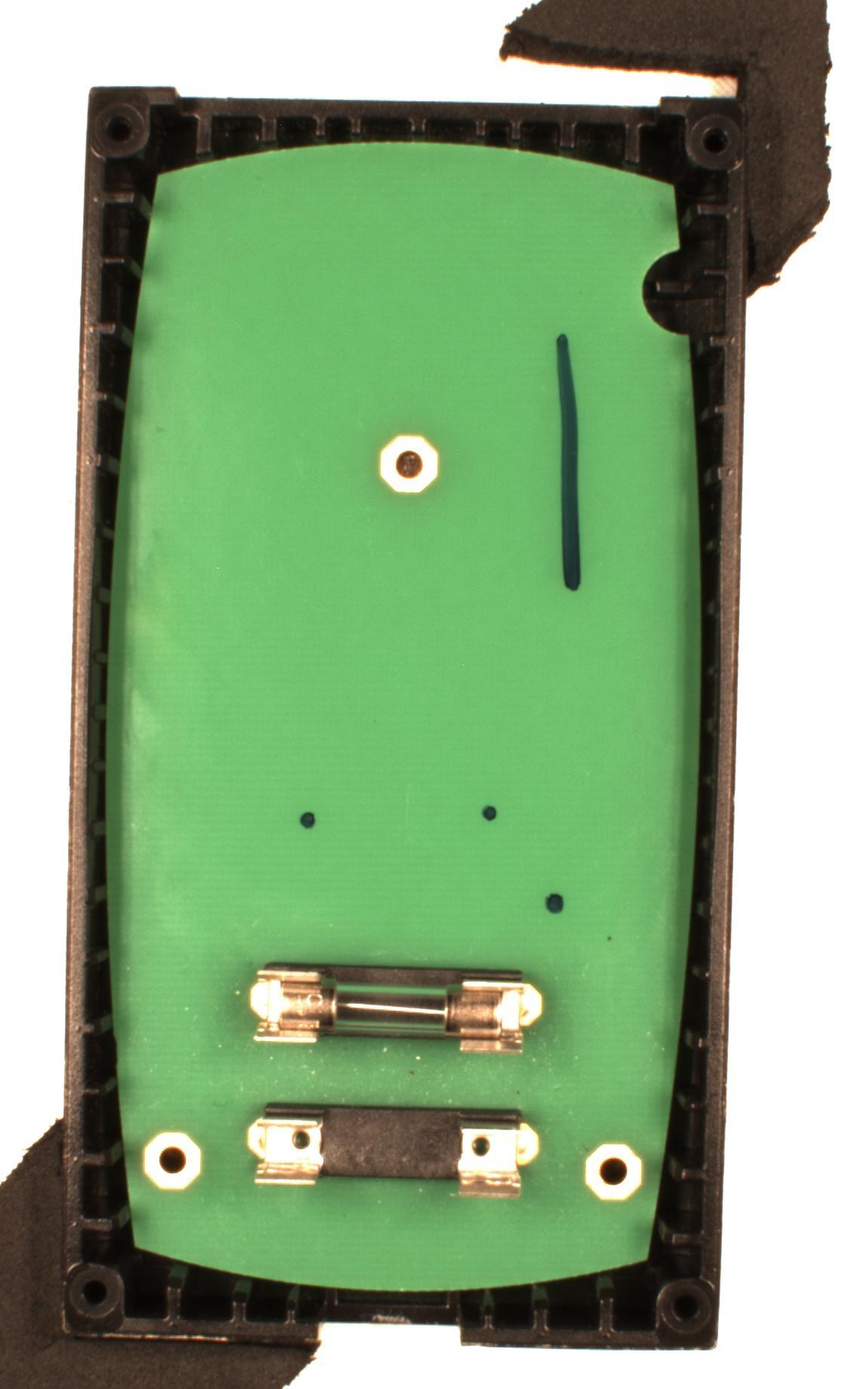Linijsko Ostecene: (550, 329, 590, 596)
Nepostojanje osiguraca: (243, 1097, 544, 1201)
Tockasto Ostecenje: (541, 889, 567, 915), (477, 801, 501, 825), (298, 808, 319, 830)
